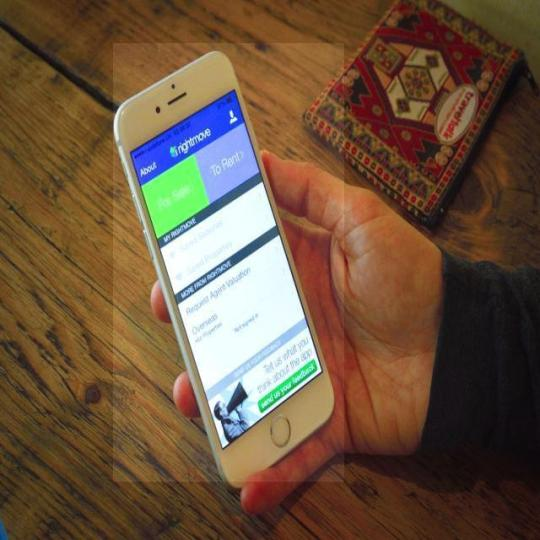phone: (89, 53, 363, 495)
